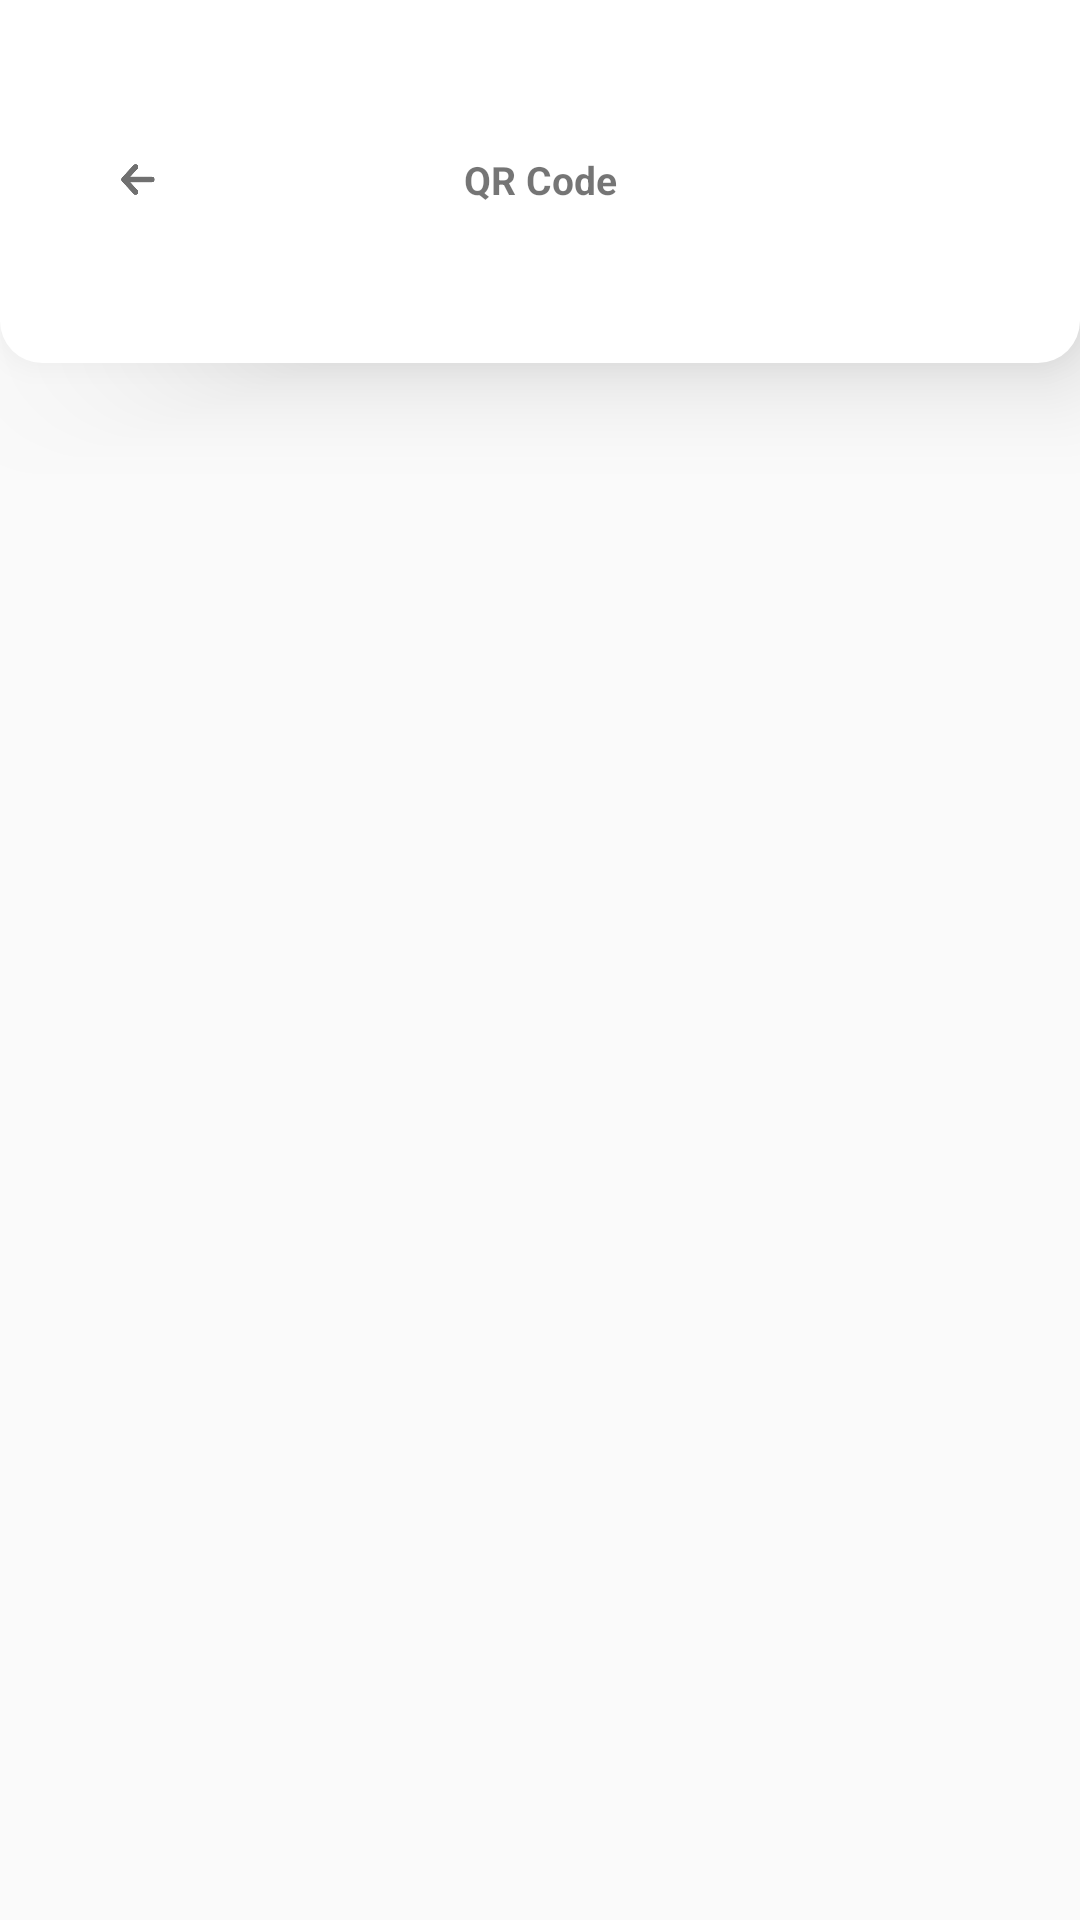

Locate icon controls on the screen. Image size 1080×1920, boxes as (x1, y1, x2, y2).
yj back: (121, 164, 155, 195)
